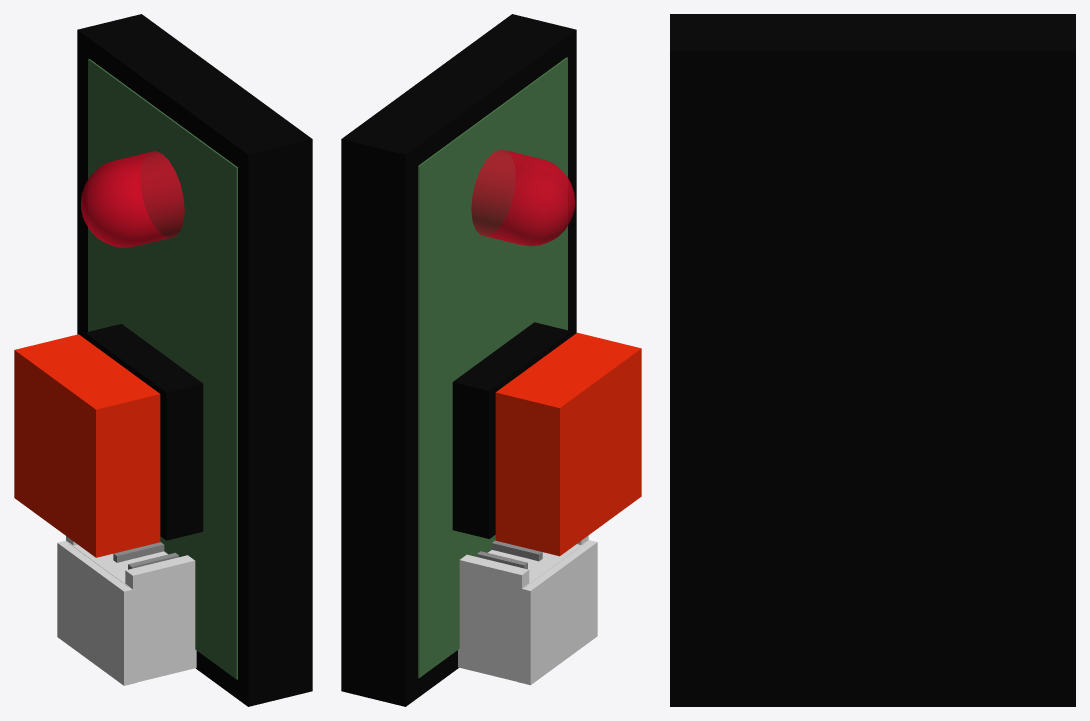
The model's file is Touch_Sensor.fbx.
3 views of the same model, side by side, from view 1: azimuth 30°, elevation 25°; view 2: azimuth 150°, elevation 25°; view 3: azimuth 270°, elevation 25° (orthographic). The views are drawn at different scales.
Parts seen in each view (by area): view 1: ROOOO:pasted__pasted__pasted__pasted__pasted__pasted__pCube2, ROOOO:pasted__pasted__pCube1, ROOOO:pasted__pasted__pCube3, ROOOO:pasted__pasted__pCube2, ROOOO:pasted__pasted__pCube5, ROOOO:pasted__pasted__pasted__pCube25, ROOOO:pasted__pCylinder1, ROOOO:pasted__pSphere1, ROOOO:pasted__pasted__pCube6, ROOOO:pasted__pasted__pCube7; view 2: ROOOO:pasted__pasted__pasted__pasted__pasted__pasted__pCube2, ROOOO:pasted__pasted__pCube1, ROOOO:pasted__pasted__pCube3, ROOOO:pasted__pasted__pCube2, ROOOO:pasted__pasted__pCube5, ROOOO:pasted__pasted__pCube4, ROOOO:pasted__pCylinder1, ROOOO:pasted__pSphere1, ROOOO:pasted__pasted__pCube6, ROOOO:pasted__pasted__pCube7; view 3: ROOOO:pasted__pasted__pasted__pasted__pasted__pasted__pCube2.
Boxes of the visible parts, box(x1,y1,x2,y2) form: ROOOO:pasted__pasted__pasted__pasted__pasted__pasted__pCube2: box(77, 14, 312, 706); ROOOO:pasted__pasted__pCube1: box(88, 59, 237, 679); ROOOO:pasted__pasted__pCube3: box(14, 334, 160, 557); ROOOO:pasted__pasted__pCube2: box(85, 324, 203, 540); ROOOO:pasted__pasted__pCube5: box(57, 540, 136, 685); ROOOO:pasted__pasted__pasted__pCube25: box(125, 555, 196, 682); ROOOO:pasted__pCylinder1: box(104, 151, 184, 246); ROOOO:pasted__pSphere1: box(81, 160, 147, 247); ROOOO:pasted__pasted__pCube6: box(69, 543, 167, 586); ROOOO:pasted__pasted__pCube7: box(114, 542, 164, 562); ROOOO:pasted__pasted__pasted__pasted__pasted__pasted__pCube2: box(341, 14, 576, 706); ROOOO:pasted__pasted__pCube1: box(418, 57, 567, 677); ROOOO:pasted__pasted__pCube3: box(495, 332, 641, 556); ROOOO:pasted__pasted__pCube2: box(452, 322, 571, 538); ROOOO:pasted__pasted__pCube5: box(518, 540, 597, 685); ROOOO:pasted__pasted__pCube4: box(458, 554, 529, 682); ROOOO:pasted__pCylinder1: box(471, 149, 552, 244); ROOOO:pasted__pSphere1: box(508, 158, 574, 246); ROOOO:pasted__pasted__pCube6: box(488, 542, 585, 586); ROOOO:pasted__pasted__pCube7: box(491, 540, 541, 560); ROOOO:pasted__pasted__pasted__pasted__pasted__pasted__pCube2: box(670, 14, 1075, 706).
Size of the model in its own units: 1.34 by 4.1 by 2.3.
